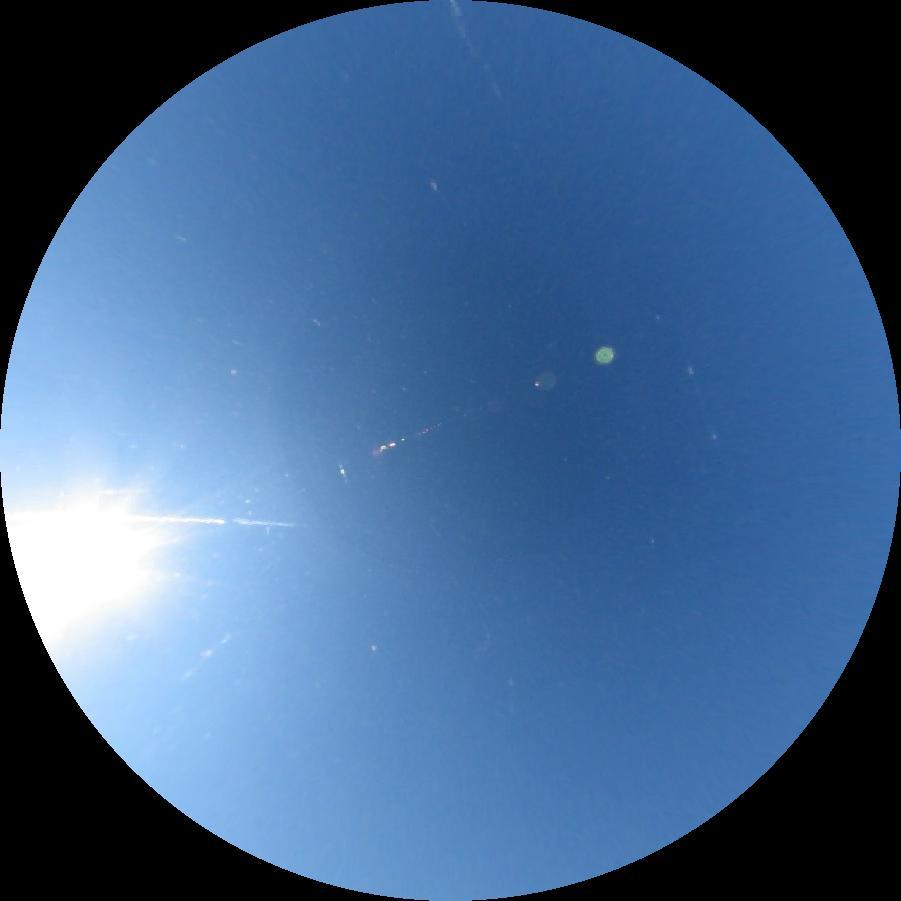contrail young: (421, 517, 443, 539)
parasite: (129, 515, 300, 531)
sun: (2, 488, 161, 639)
unknow: (443, 0, 508, 106)
